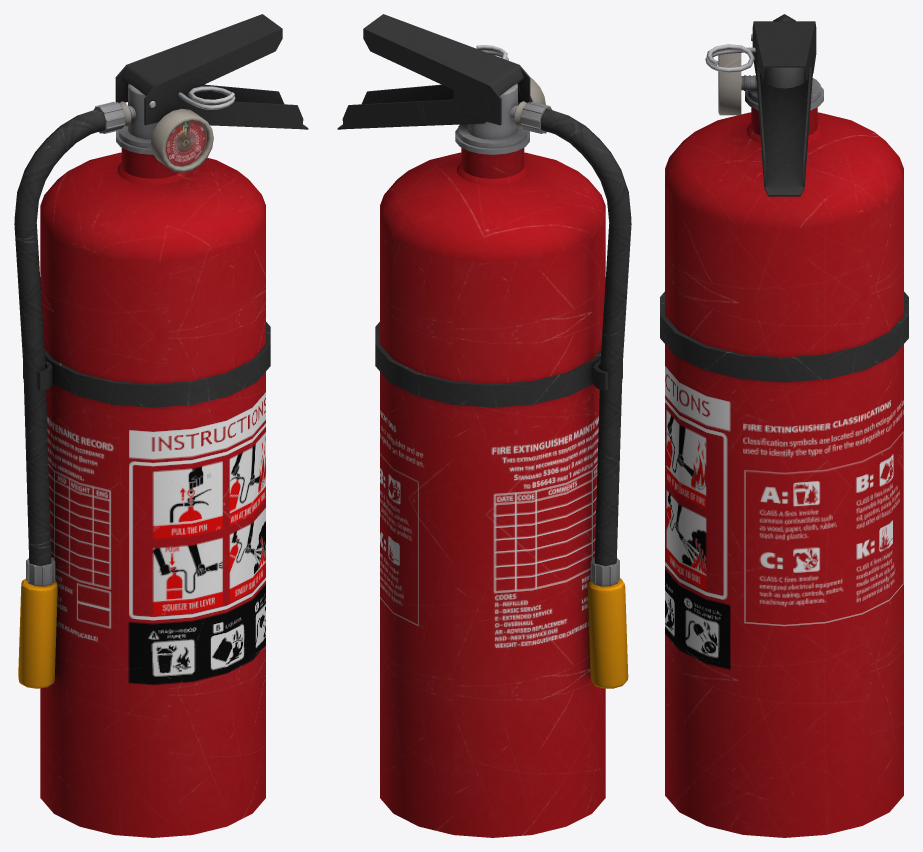
File: 3D021_Extinguisher.FBX
The picture shows the model from 3 angles, left to right: view 1: azimuth 30°, elevation 25°; view 2: azimuth 150°, elevation 25°; view 3: azimuth 270°, elevation 25°; orthographic projection. The views are drawn at different scales.
Visible parts, largest first — view 1: Extinguisher_Baked; view 2: Extinguisher_Baked; view 3: Extinguisher_Baked.
Part boxes in pixels (box(x1,y1,x2,y2)): Extinguisher_Baked: box(14, 14, 308, 837); Extinguisher_Baked: box(337, 14, 631, 837); Extinguisher_Baked: box(660, 14, 908, 837).
Size of the model in its own units: 75.92 by 187 by 53.96.
